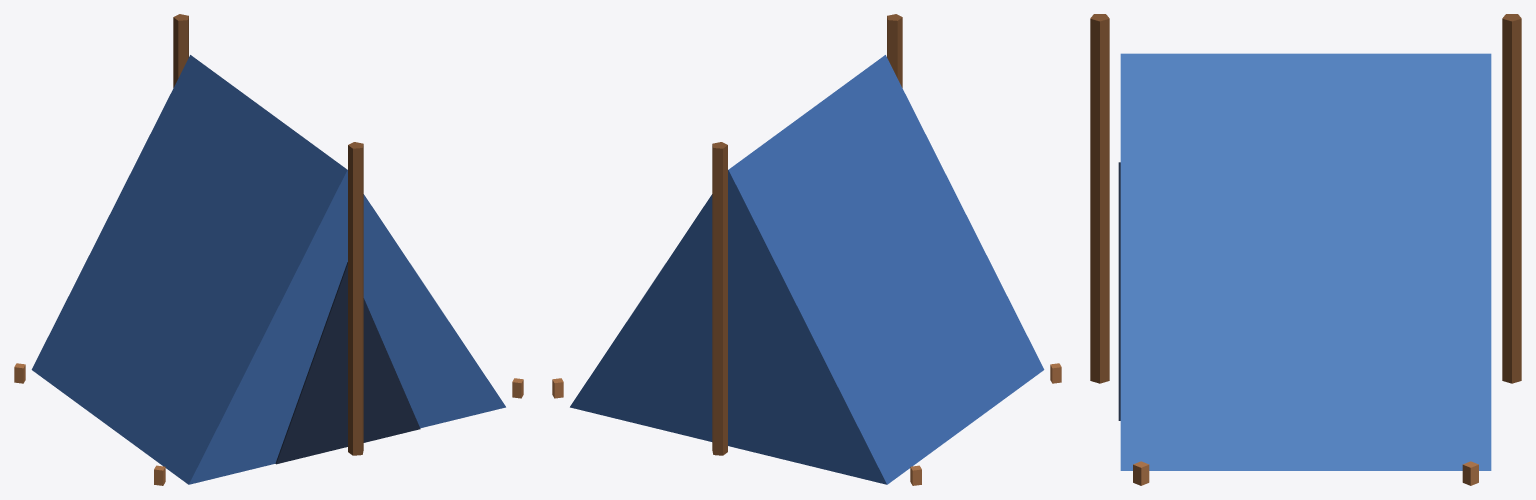
File: tent.glb
The picture shows the model from 3 angles, left to right: view 1: azimuth 30°, elevation 25°; view 2: azimuth 150°, elevation 25°; view 3: azimuth 270°, elevation 25°; orthographic projection. The views are drawn at different scales.
Visible parts, largest first — view 1: tent; view 2: tent; view 3: tent.
Boxes of the visible parts, bbox=[...] form: tent: bbox=[14, 14, 523, 485]; tent: bbox=[552, 14, 1061, 485]; tent: bbox=[1090, 14, 1521, 485].
Size of the model in its own units: 1.26 by 1 by 1.08.
Materials: 1 (1 with a texture image).
